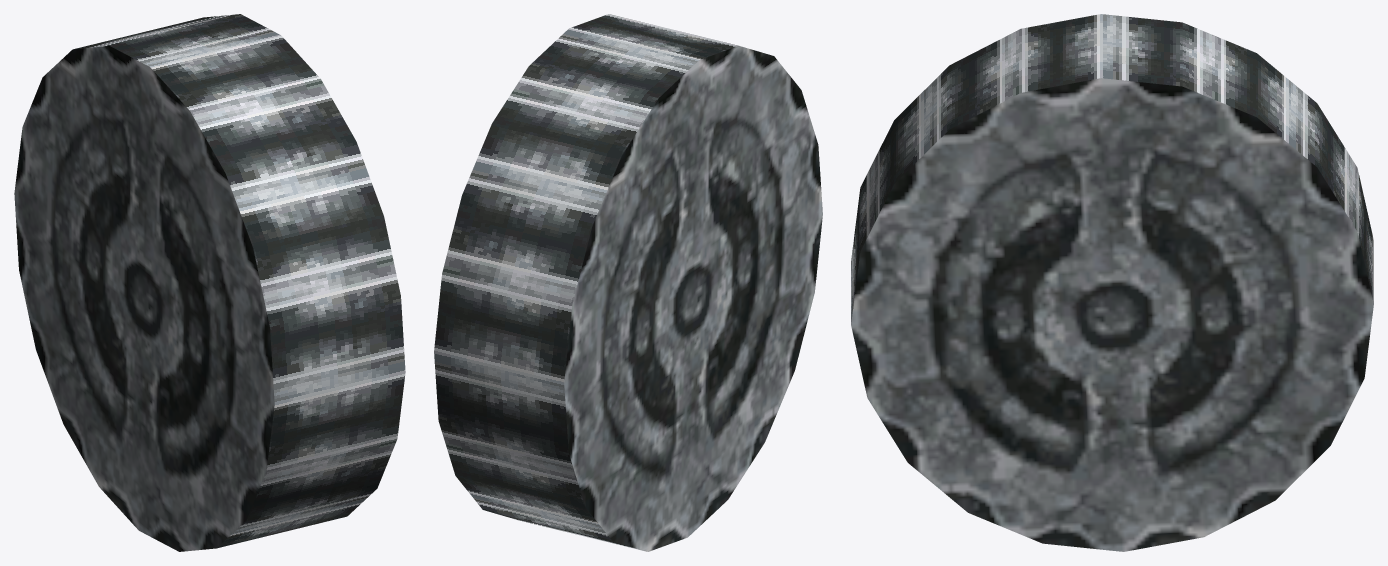
The model's file is INST_PUZZLE_PIECE3_PIECE3_SILVER.fbx.
3 views of the same model, side by side, from view 1: azimuth 30°, elevation 25°; view 2: azimuth 150°, elevation 25°; view 3: azimuth 270°, elevation 25° (orthographic).
Visible parts, largest first — view 1: INST_PUZZLE_PIECE3_PIECE3_SILVER; view 2: INST_PUZZLE_PIECE3_PIECE3_SILVER; view 3: INST_PUZZLE_PIECE3_PIECE3_SILVER.
Boxes of the visible parts, x1=… form: INST_PUZZLE_PIECE3_PIECE3_SILVER: x1=14, y1=14, x2=405, y2=551; INST_PUZZLE_PIECE3_PIECE3_SILVER: x1=434, y1=14, x2=822, y2=551; INST_PUZZLE_PIECE3_PIECE3_SILVER: x1=851, y1=14, x2=1373, y2=551.
Size of the model in its own units: 839 by 2890 by 2890.
Materials: 2 (2 with a texture image).
